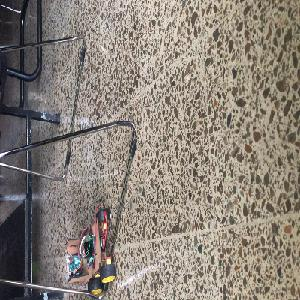Robot: (66, 210, 116, 294)
